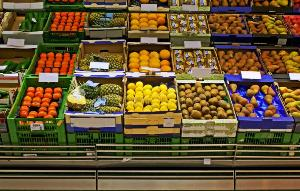cucumber: (0, 10, 49, 36), (1, 50, 32, 78)
kiwi: (177, 80, 235, 125)
lemon: (128, 79, 178, 120)
orange: (129, 44, 175, 74), (130, 12, 168, 36)
pear: (226, 78, 284, 121), (218, 51, 266, 80), (255, 49, 300, 79), (207, 10, 251, 38), (252, 8, 288, 42), (274, 83, 300, 116)
persimmon: (12, 83, 65, 121), (30, 42, 78, 76), (50, 11, 88, 33)
pineapple: (68, 79, 122, 115), (73, 41, 125, 70), (89, 10, 130, 32)
